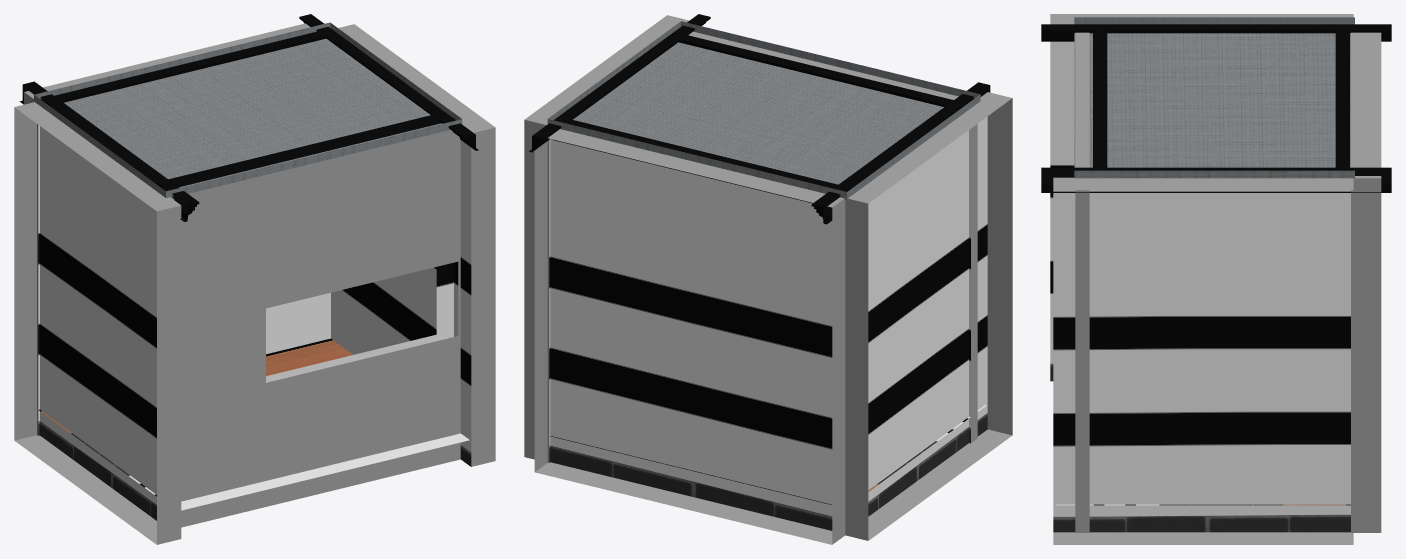
The model's file is kitchenwalls.fbx.
3 renders of one model, left to right at view 1: azimuth 30°, elevation 25°; view 2: azimuth 150°, elevation 25°; view 3: azimuth 270°, elevation 25°, orthographic. The views are drawn at different scales.
Visible parts, largest first — view 1: pCube4, pCube6, pCube12, pCube5, pCube3, pCube1, polySurface123, polySurface126, polySurface125, polySurface127; view 2: pCube3, pCube6, pCube12, pCube5, pCube4, polySurface123, polySurface125, polySurface127, polySurface126, pCube1; view 3: pCube5, pCube12, pCube3, pCube4, pCube6, polySurface125, polySurface127, polySurface123, polySurface126, pCube1.
Part boxes in pixels (x1,y1,x2,y2): pCube4: (171,124,460,527); pCube6: (14,102,181,544); pCube12: (34,22,462,197); pCube5: (331,24,495,466); pCube3: (24,23,330,435); pCube1: (39,338,469,510); polySurface123: (156,112,448,188); polySurface126: (42,29,334,105); polySurface125: (19,81,199,221); polySurface127: (299,14,478,150); pCube3: (534,129,845,544); pCube6: (845,92,1012,540); pCube12: (547,21,980,199); pCube5: (524,15,689,462); pCube4: (688,31,977,443); polySurface123: (670,32,965,109); polySurface125: (811,82,990,224); polySurface127: (529,14,710,152); polySurface126: (553,117,850,203); pCube1: (550,405,986,504); pCube5: (1053,177,1353,544); pCube12: (1074,17,1354,178); pCube3: (1351,32,1381,532); pCube4: (1075,32,1089,532); pCube6: (1050,14,1353,381); polySurface125: (1041,24,1391,41); polySurface127: (1041,167,1391,192); polySurface123: (1093,24,1107,170); polySurface126: (1335,24,1349,170); pCube1: (1056,504,1350,505).
Size of the model in its own units: 13.87 by 13.27 by 11.65.
